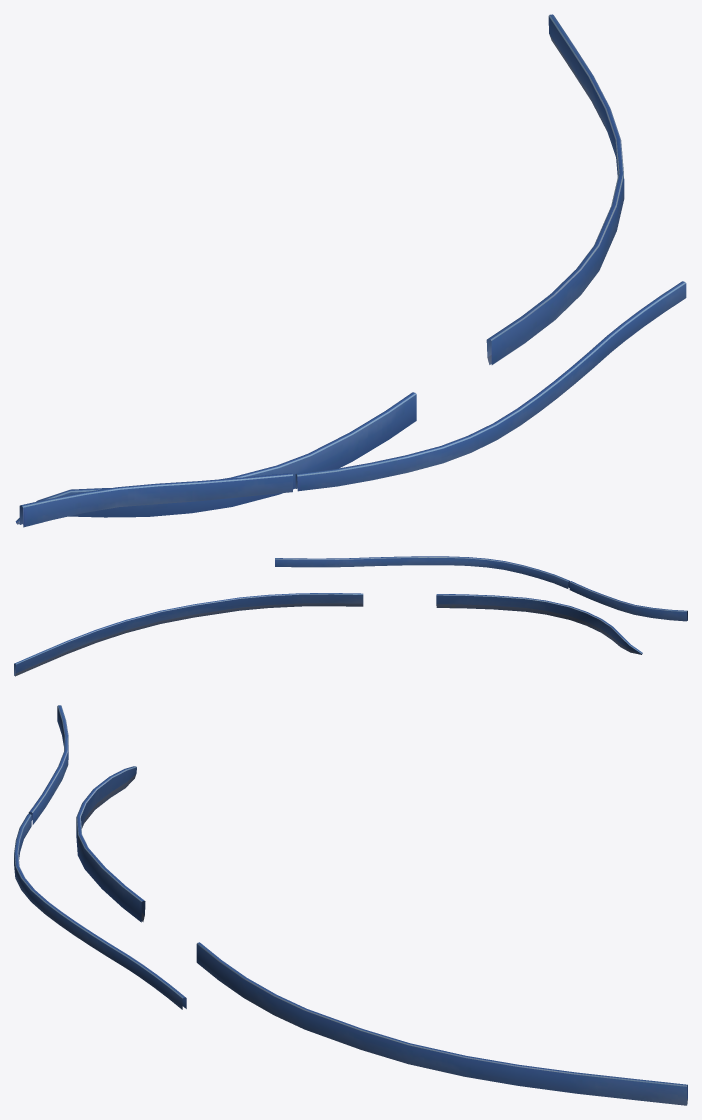
Rendered from pref_sm_beach_winter_pointmol_glass01_lv1.fbx.
3 renders of one model, top to bottom at view 1: azimuth 30°, elevation 25°; view 2: azimuth 150°, elevation 25°; view 3: azimuth 270°, elevation 25°, orthographic. The views are drawn at different scales.
Visible parts, largest first — view 1: pref_sm_beach_winter_pointmol_glass01_lv1; view 2: pref_sm_beach_winter_pointmol_glass01_lv1; view 3: pref_sm_beach_winter_pointmol_glass01_lv1.
Boxes of the visible parts, x1,y1,x2,y2 form: pref_sm_beach_winter_pointmol_glass01_lv1: [15, 14, 686, 527]; pref_sm_beach_winter_pointmol_glass01_lv1: [14, 556, 687, 676]; pref_sm_beach_winter_pointmol_glass01_lv1: [14, 705, 687, 1105].
Bounding box in the file's own units: 49.02 × 3.19 × 39.5.
